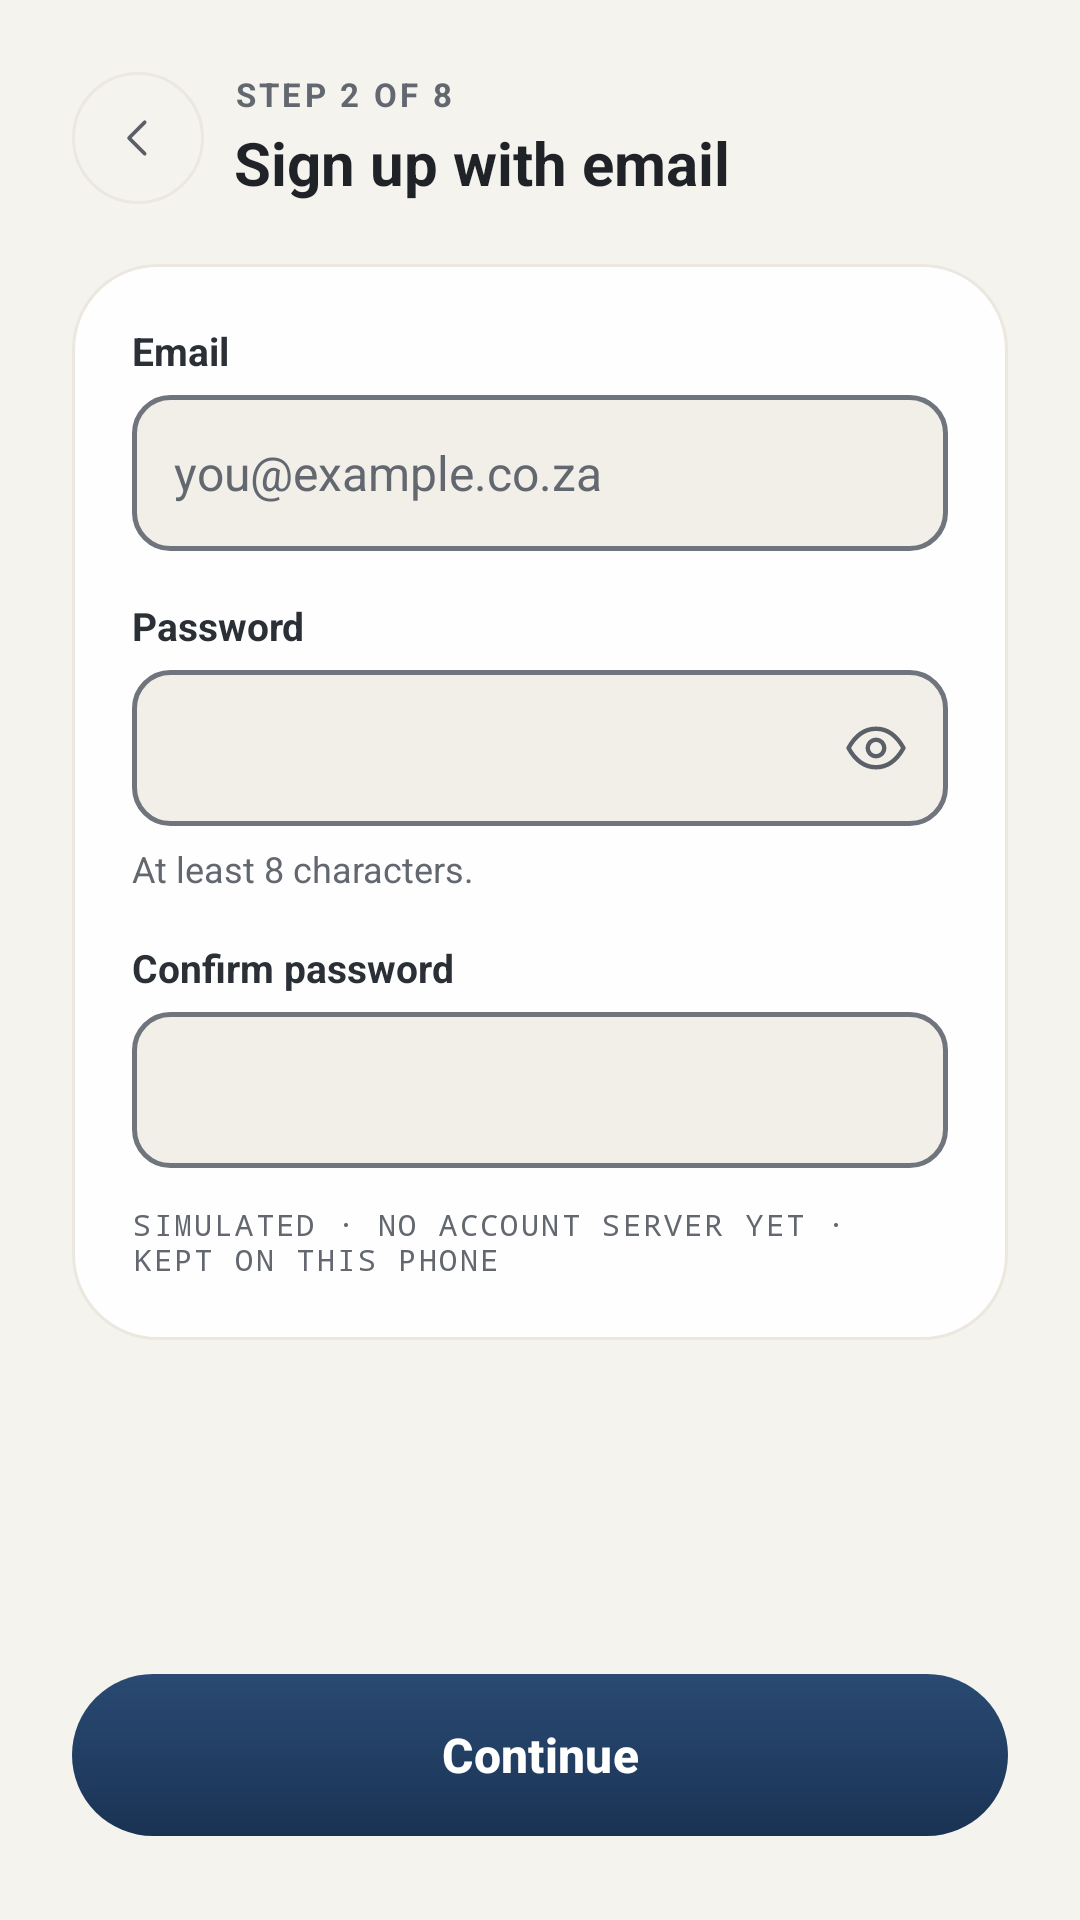

Icon bounding boxes for this 1080px×1920px phone screenshot, format BBox(x1, y1, x2, y2):
Back: BBox(127, 120, 147, 156)
